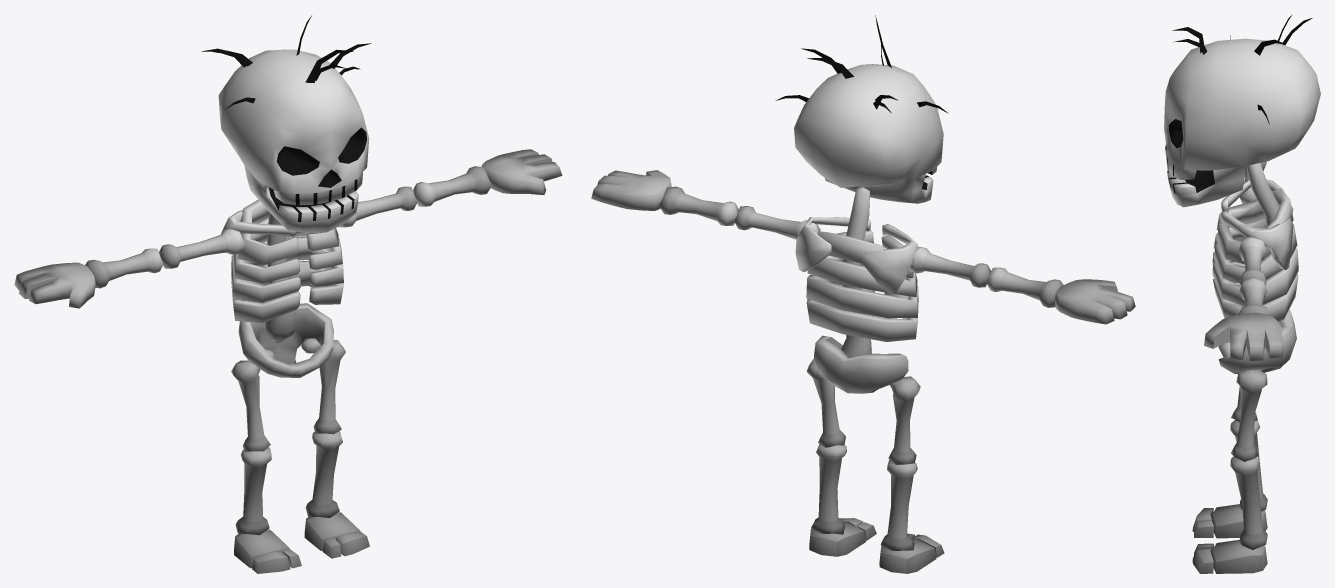
Rendered from Skeleton.fbx.
3 views of the same model, side by side, from view 1: azimuth 30°, elevation 25°; view 2: azimuth 150°, elevation 25°; view 3: azimuth 270°, elevation 25° (orthographic). The views are drawn at different scales.
Visible parts, largest first — view 1: Skeleton; view 2: Skeleton; view 3: Skeleton.
Boxes of the visible parts, x1,y1,x2,y2 form: Skeleton: (14,15,562,573); Skeleton: (591,15,1135,573); Skeleton: (1164,15,1320,573).
Size of the model in its own units: 197 by 183 by 49.02.
